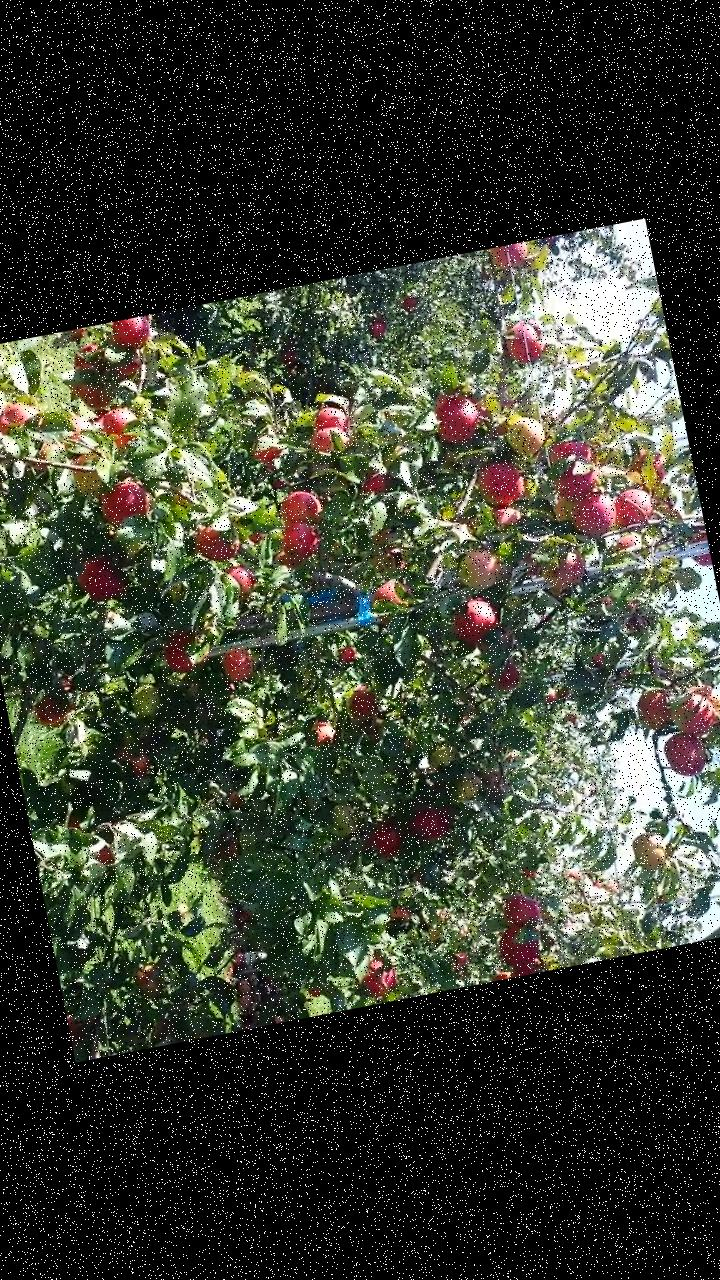Apple: (450, 544, 508, 602), (93, 476, 156, 528), (562, 488, 620, 544), (446, 592, 502, 649), (429, 392, 483, 448), (537, 540, 592, 594), (189, 520, 244, 572), (472, 458, 528, 509), (659, 728, 711, 782), (496, 314, 550, 366), (608, 484, 660, 537), (630, 681, 676, 740), (73, 554, 127, 604), (274, 486, 328, 534), (668, 688, 718, 738), (500, 414, 552, 462), (495, 921, 545, 970), (364, 529, 410, 582), (64, 450, 112, 500), (623, 446, 672, 494), (550, 456, 601, 500), (362, 818, 406, 869), (406, 802, 456, 846), (160, 628, 200, 683), (96, 402, 144, 447), (498, 890, 545, 934), (628, 826, 672, 872), (356, 953, 400, 998), (278, 519, 324, 562), (125, 962, 169, 1006), (0, 397, 48, 435), (310, 402, 355, 442), (109, 316, 156, 354), (485, 242, 534, 278), (113, 742, 154, 784), (216, 644, 256, 687), (27, 690, 67, 733), (485, 652, 524, 696), (126, 681, 166, 723), (220, 563, 259, 606), (62, 409, 100, 453), (542, 438, 594, 470), (371, 576, 414, 614), (23, 440, 66, 478), (308, 424, 356, 458), (72, 376, 116, 412), (345, 683, 382, 725), (678, 530, 712, 572), (323, 801, 358, 840), (66, 1010, 92, 1060), (449, 767, 486, 802), (69, 338, 106, 372), (250, 443, 286, 477), (109, 352, 148, 383), (272, 546, 307, 576), (358, 469, 394, 498), (310, 716, 342, 748), (692, 681, 719, 717), (610, 532, 644, 559), (548, 494, 577, 524), (506, 956, 548, 976), (489, 502, 523, 526), (431, 743, 460, 770), (88, 844, 117, 868), (214, 839, 241, 864), (388, 905, 410, 927), (247, 526, 270, 546)
